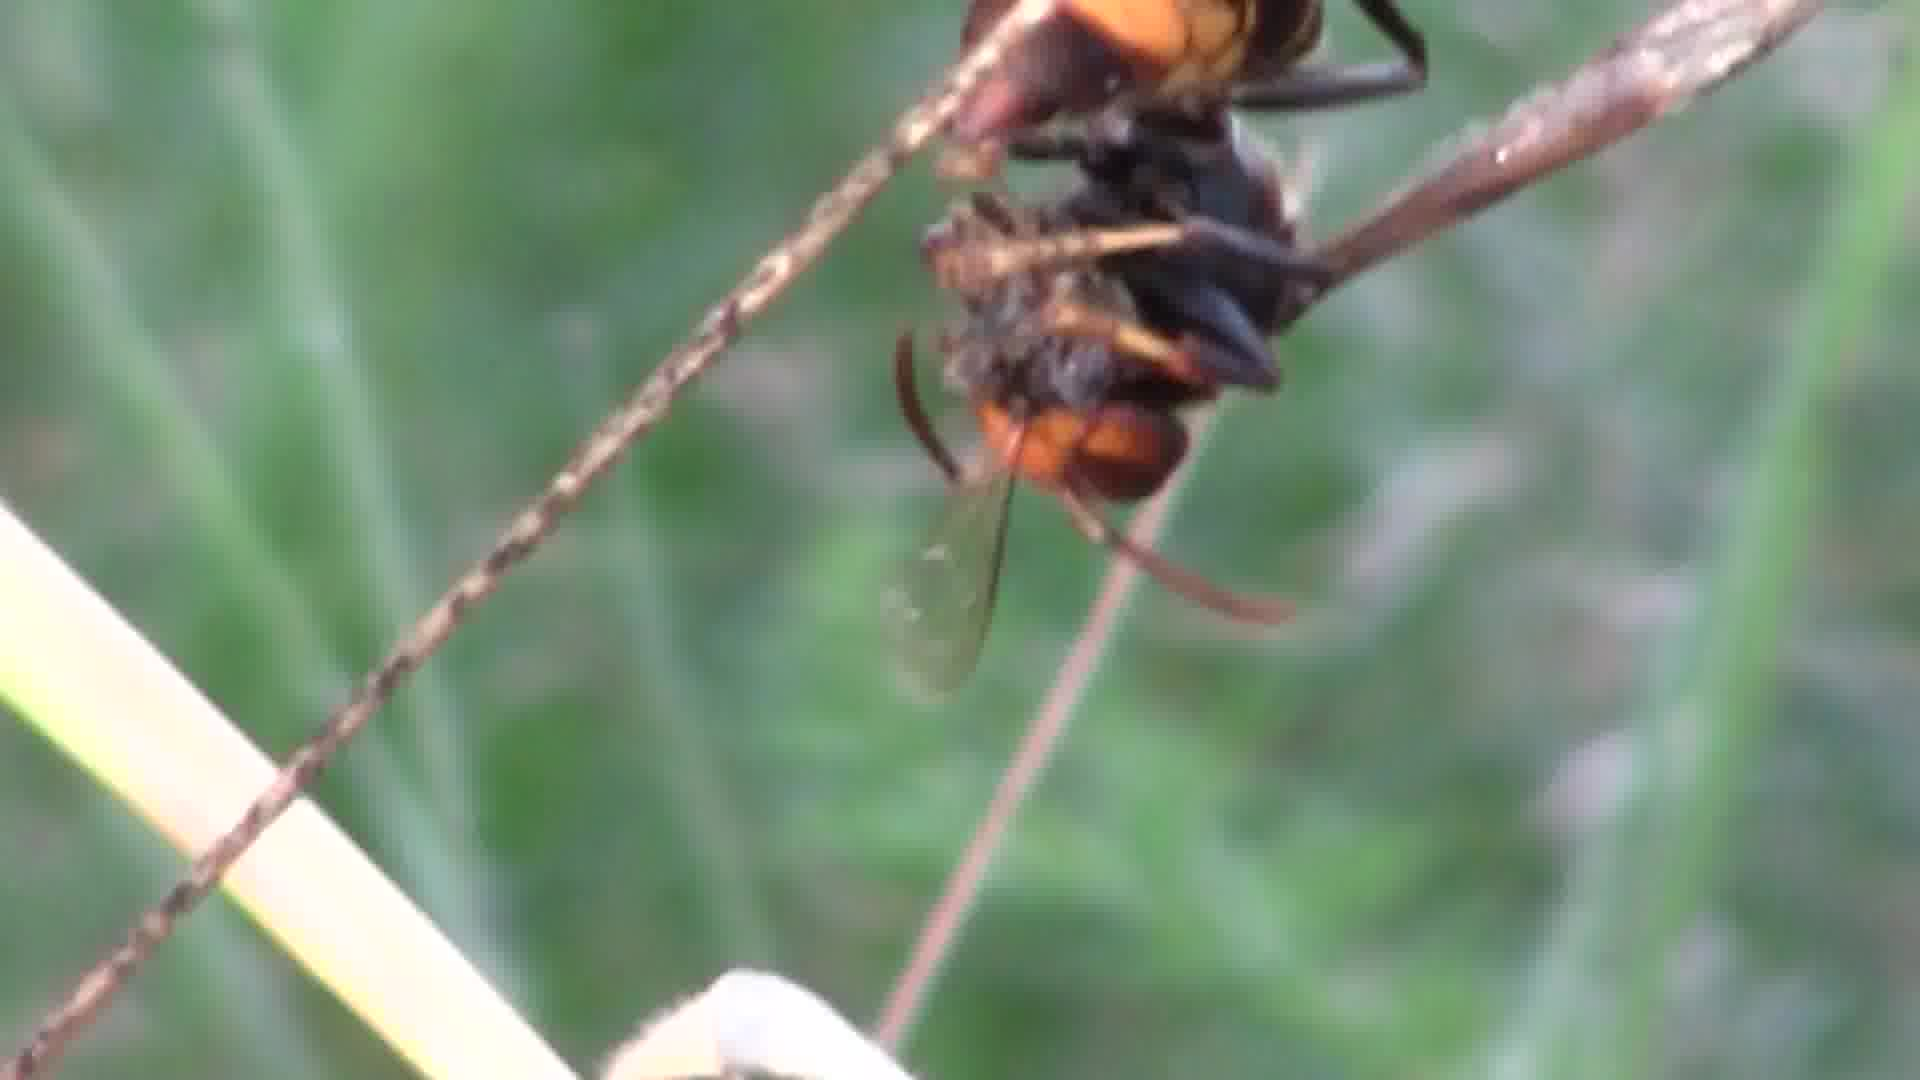hornet: (870, 3, 1416, 642)
